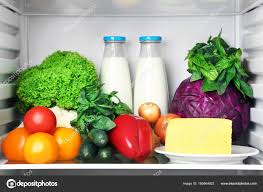milk: (97, 28, 134, 97), (137, 34, 170, 108)
